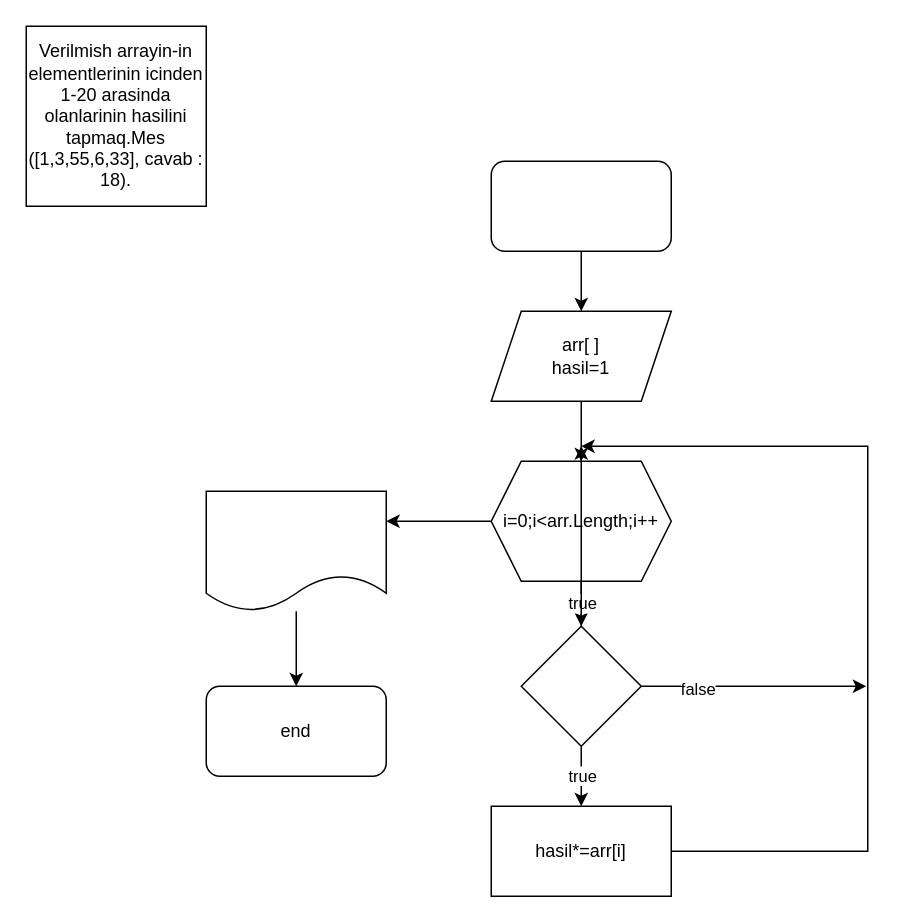
Some shapes in this 906 by 923 pixel diagram are drawn without their labels. The shapes that lost their labels are listed below. From the top down, each one's centre as x and y in pixels, then its label:
(580,205): start
(295,550): hasil
(580,685): arr[i]>1&& arr[i]<20
